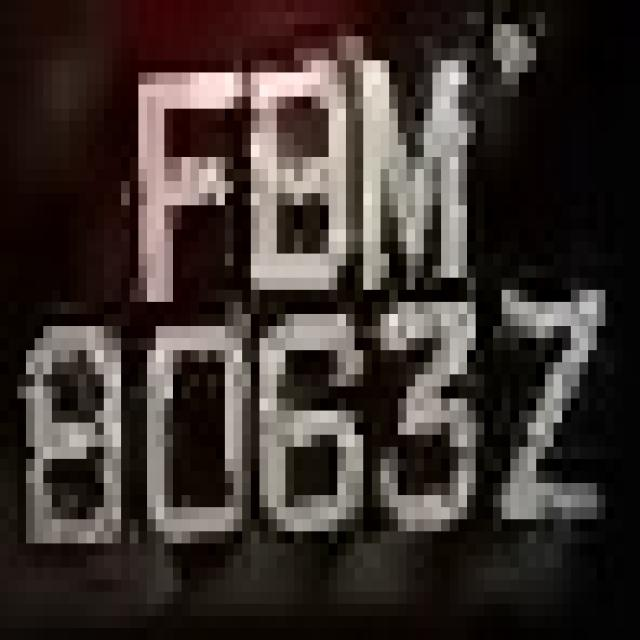0: (138, 278, 260, 568)
3: (329, 302, 484, 555)
6: (259, 278, 372, 543)
8: (17, 278, 130, 555)
B: (233, 36, 354, 326)
F: (121, 36, 225, 314)
M: (338, 24, 484, 326)
Z: (484, 230, 623, 556)
